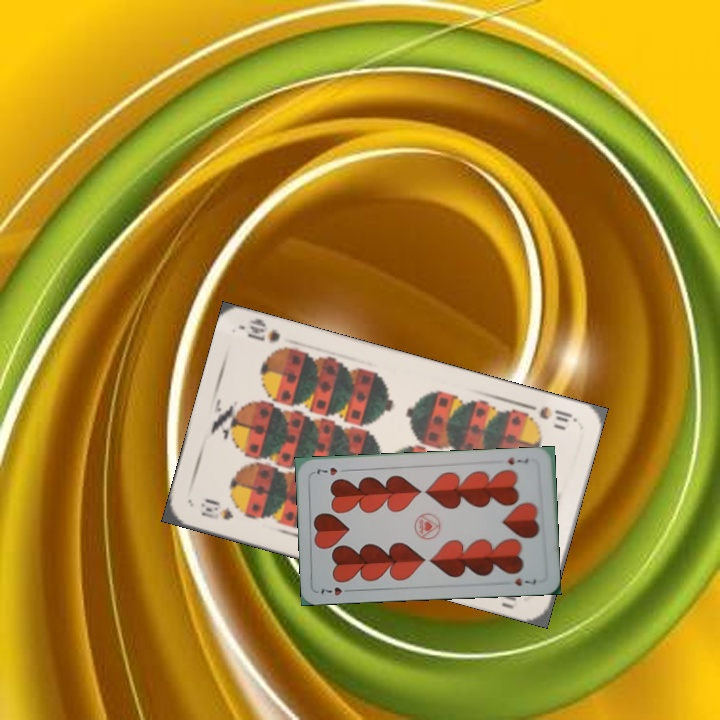H7: (317, 583, 356, 598), (503, 454, 531, 467)
S10: (520, 399, 578, 425), (197, 497, 237, 523)
